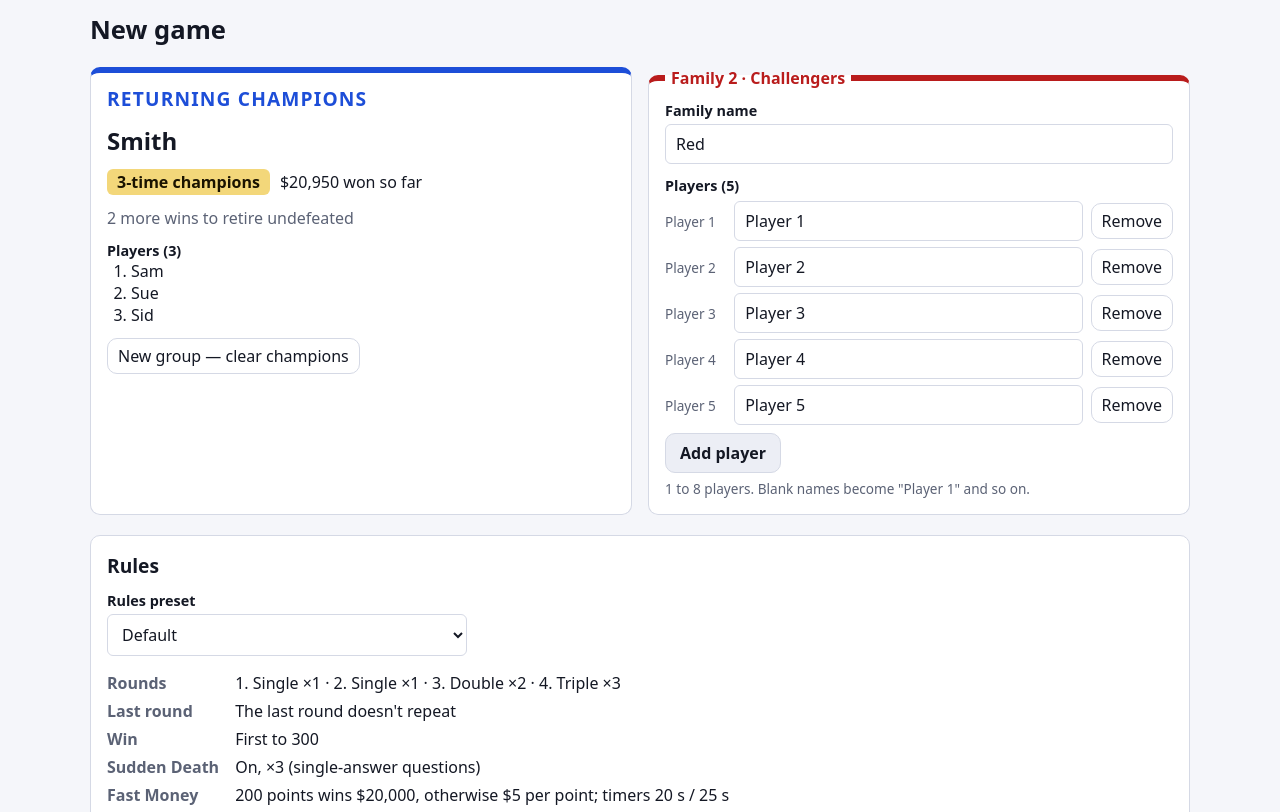
Test: SetupScreen with returning champions › shows how many more wins until they retire, or no limit
The width and height of the screenshot is (1280, 812).
Expected: the text "2 more wins to retire undefeated" is shown, [107,207,354,229]
Select "Unlimited" in the dropdown labelled "Rules preset". click: (287, 635)
box: [107,614,467,656]
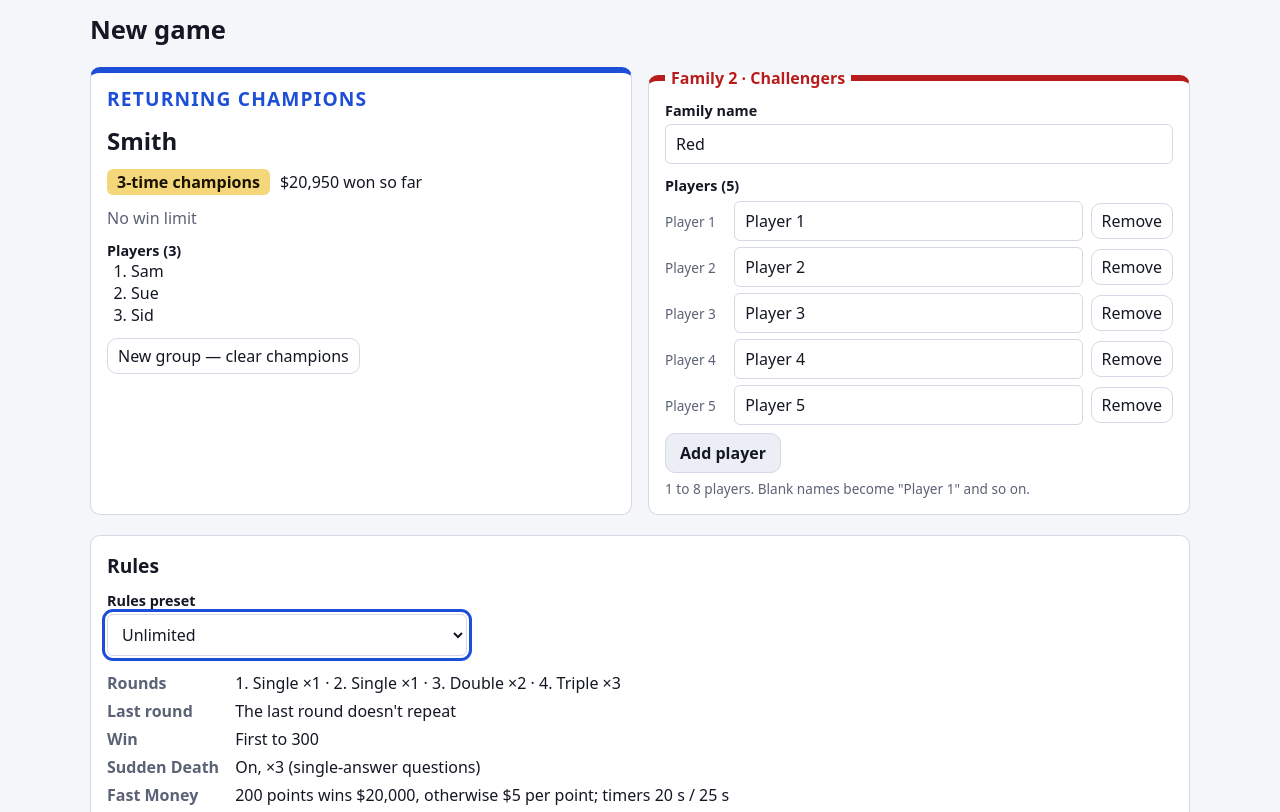
Expected: the text "No win limit" is shown, [107,207,197,229]
